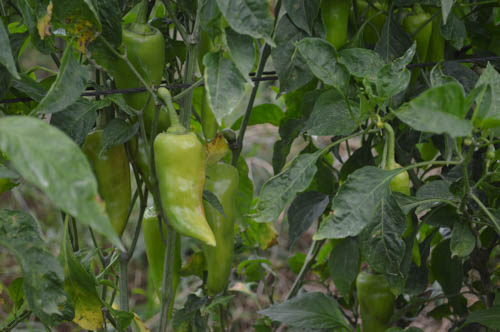ChiliPepper: (154, 131, 214, 247), (198, 164, 238, 292), (115, 30, 169, 124), (86, 132, 132, 236), (384, 163, 426, 270), (138, 214, 181, 288), (355, 275, 393, 329), (401, 17, 428, 83), (317, 5, 350, 47)
